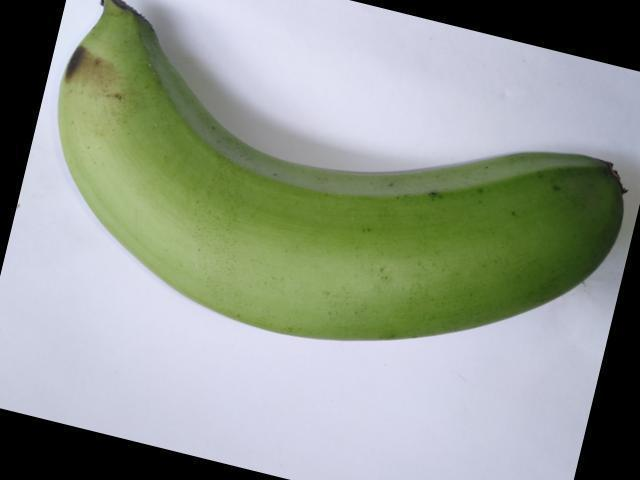freshunripe: (44, 0, 639, 363)
